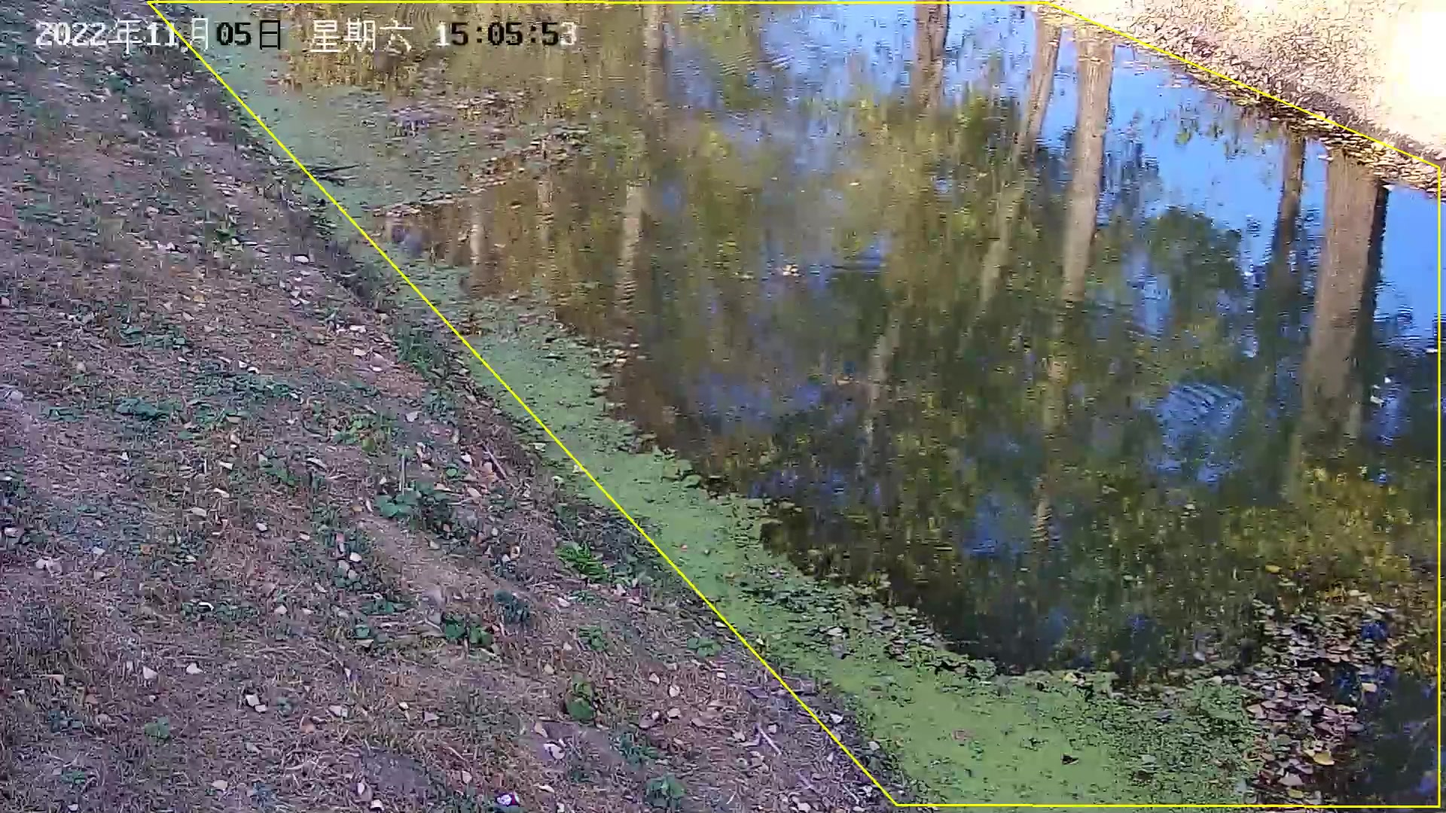floater: (1145, 583, 1409, 804), (843, 662, 1145, 813), (239, 85, 589, 210), (447, 297, 628, 418), (697, 580, 947, 656), (624, 493, 798, 574), (325, 211, 467, 306), (540, 418, 706, 489)
